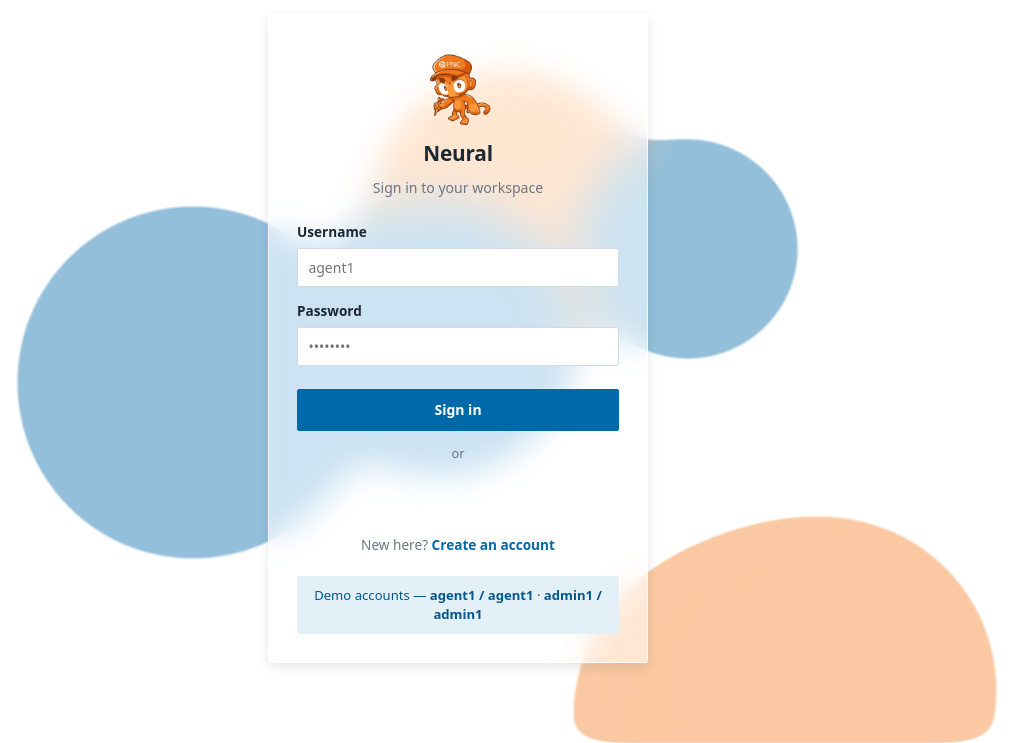
Scenario: LoginPage › switches to the create-account form with a confirm-password field
Click the button "Create an account".
click(493, 545)  # box [432,535,555,555]
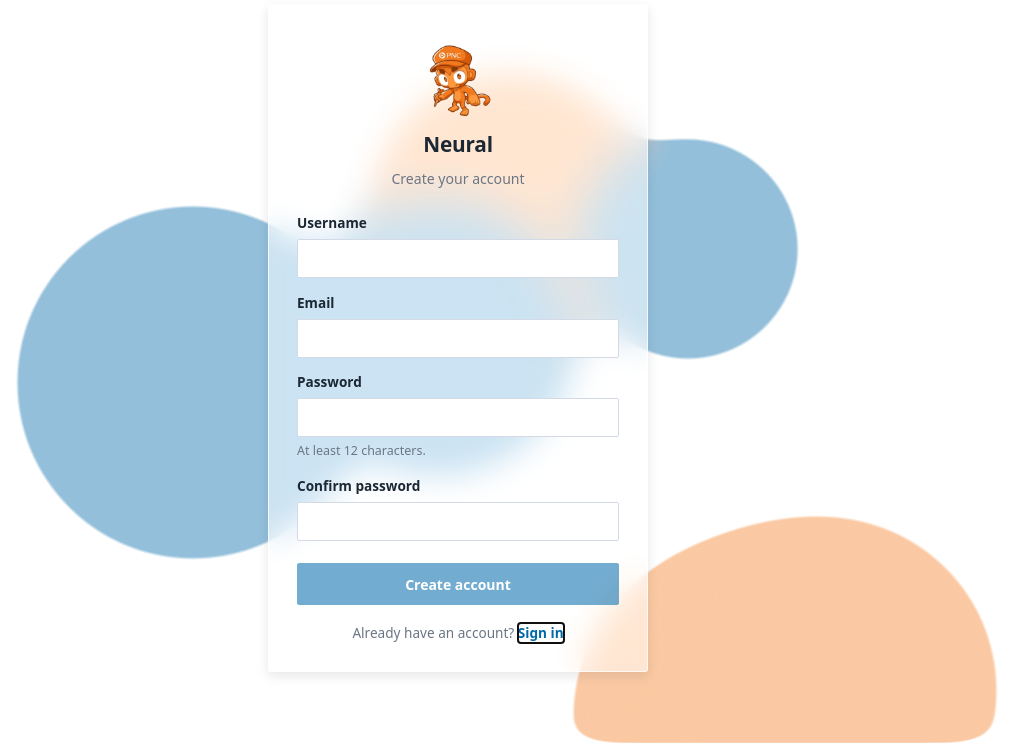
Expected: the text "Create your account" is shown, [391,168,525,189]
Expected: the field labelled "Email" is shown, [297,318,619,358]
Expected: the password field labelled "Confirm password" is shown, [297,502,619,541]
